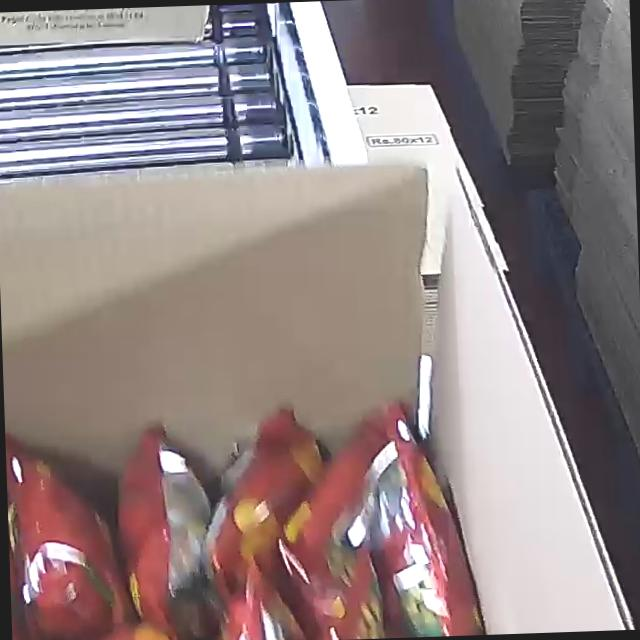masala: (3, 391, 526, 640)
